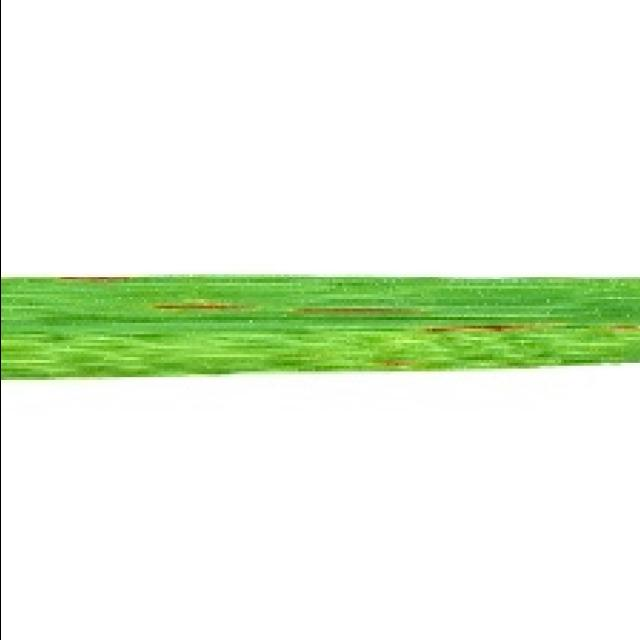Unhealthy: (298, 307, 423, 315), (150, 303, 243, 312), (425, 324, 525, 332), (56, 275, 132, 282), (603, 325, 640, 331)
